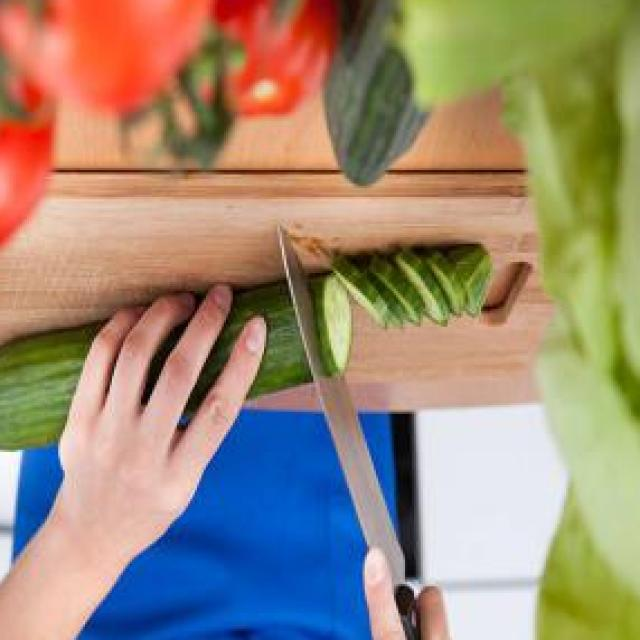knife: (276, 222, 437, 640)
